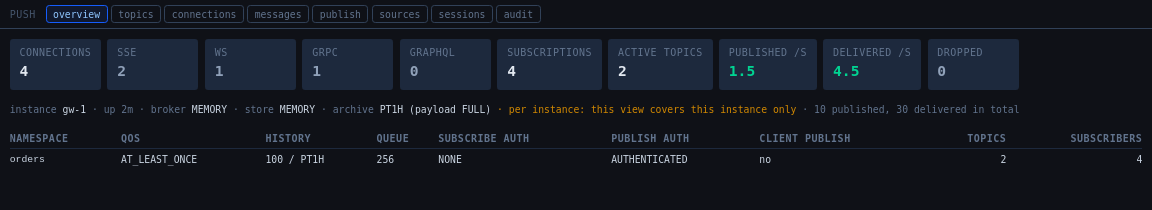
Scenario: PushPanel › tails a topic through the push client: subscribes, lists events, and shows a gap as its own entry
Click the button "topics".
click(136, 14)  # box [111,5,161,23]
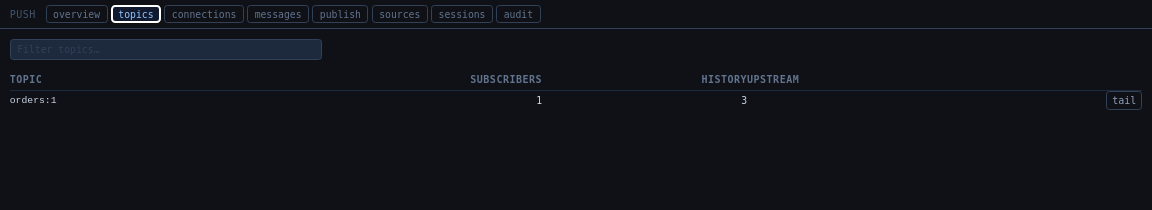
Click the button "tail".
click(1124, 101)  # box [1106,91,1142,110]
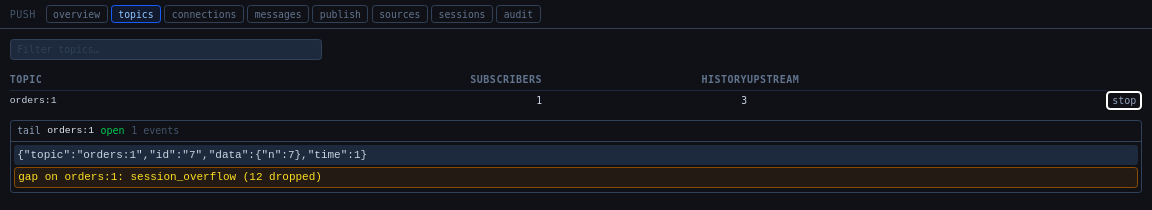
Expected: the text "open" is shown, [100,124,125,138]
Expected: the text "{\"topic\":\"orders:1\",\"id\":\"7\",\"data\":{\"n\":7},\"time\":1}" is shown, [14,145,1138,165]
Expected: the text "gap on orders:1: session_overflow (12 dropped)" is shown, [14,166,1138,188]
